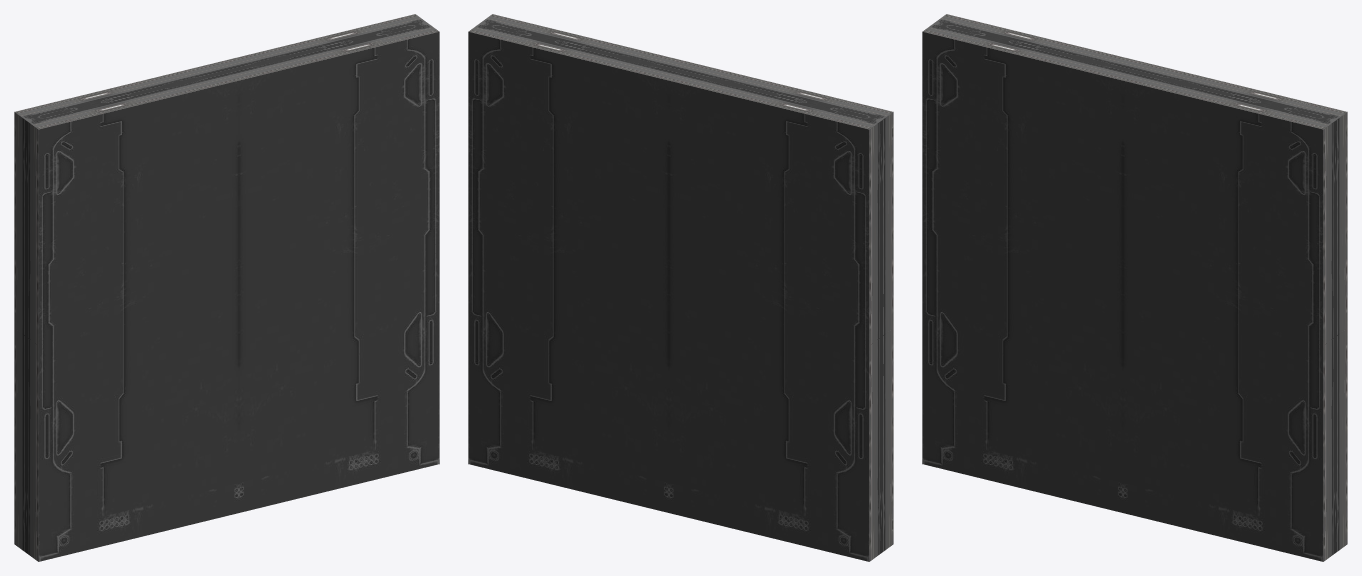
File: door_frame_square_blocked.gltf
3 views of the same model, side by side, from view 1: azimuth 30°, elevation 25°; view 2: azimuth 150°, elevation 25°; view 3: azimuth 330°, elevation 25° (orthographic).
Parts seen in each view (by area): view 1: Door_Frame_Square_Blocked; view 2: Door_Frame_Square_Blocked; view 3: Door_Frame_Square_Blocked.
Boxes of the visible parts, x1,y1,x2,y2 form: Door_Frame_Square_Blocked: (14,14,439,561); Door_Frame_Square_Blocked: (468,14,893,561); Door_Frame_Square_Blocked: (922,14,1347,561).
Size of the model in its own units: 4.85 by 5 by 0.5068.
Materials: 1 (1 with a texture image).
